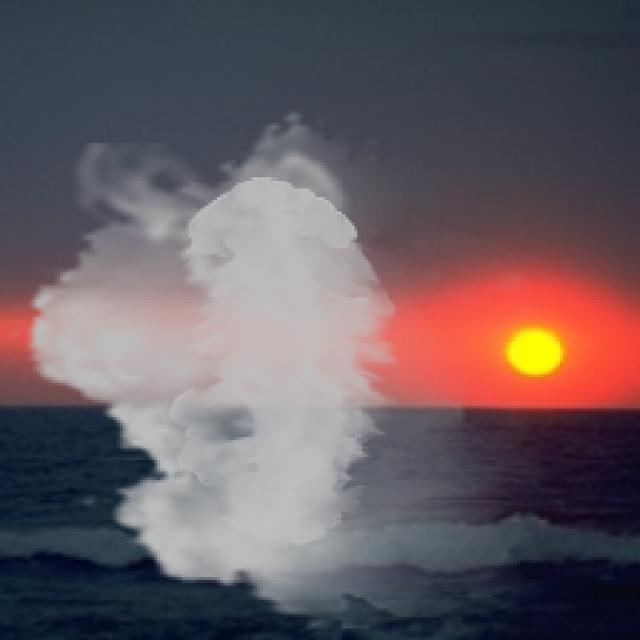Smoke: (6, 109, 552, 628)
